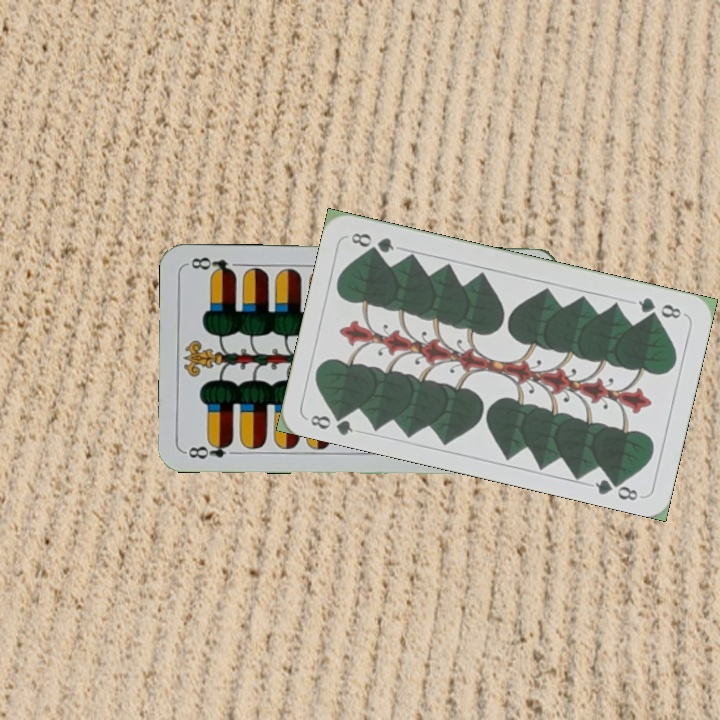E8: (182, 437, 236, 462)
G8: (306, 407, 356, 438), (634, 293, 687, 321)
